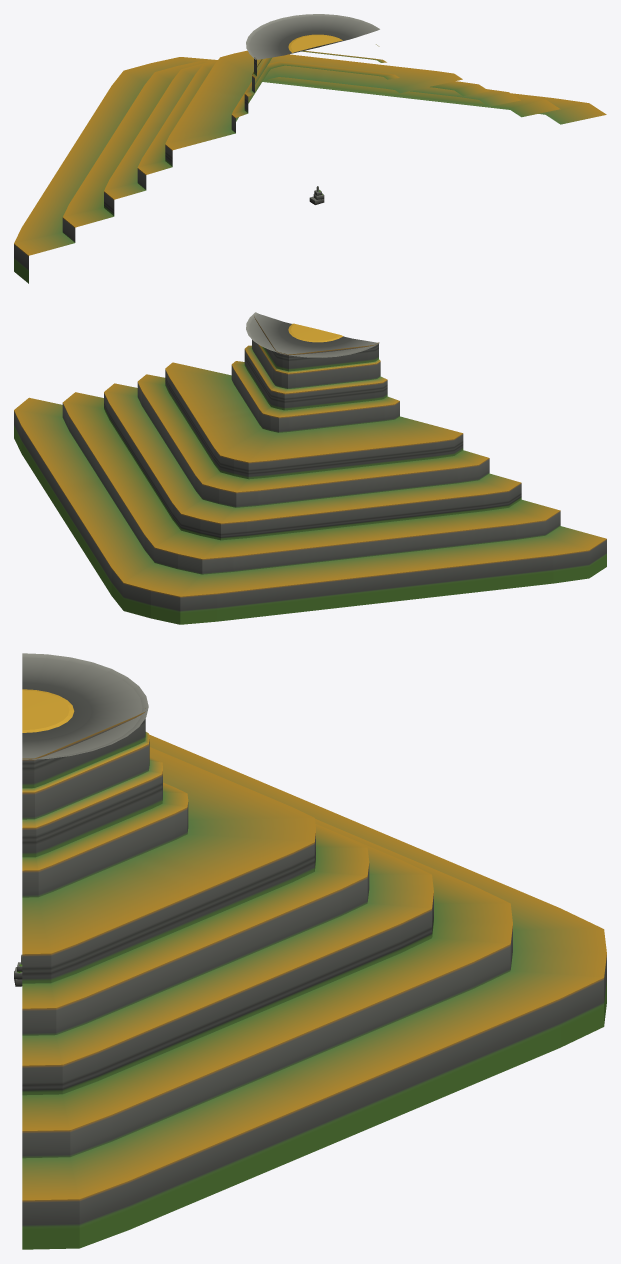
The model's file is temple-s1-Cz1Tvf4-.glb.
The picture shows the model from 3 angles, top to bottom: view 1: azimuth 30°, elevation 25°; view 2: azimuth 150°, elevation 25°; view 3: azimuth 270°, elevation 25°; orthographic projection. The views are drawn at different scales.
Visible parts, largest first — view 1: sc_landmark_0; view 2: sc_landmark_0; view 3: sc_landmark_0.
Part boxes in pixels (x1,y1,x2,y2): sc_landmark_0: [14, 14, 606, 283]; sc_landmark_0: [14, 312, 606, 624]; sc_landmark_0: [22, 653, 606, 1249].
Bounding box in the file's own units: 758 × 212 × 385.
